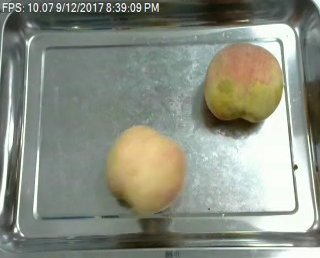Peach: (105, 125, 186, 213), (203, 41, 284, 123)
